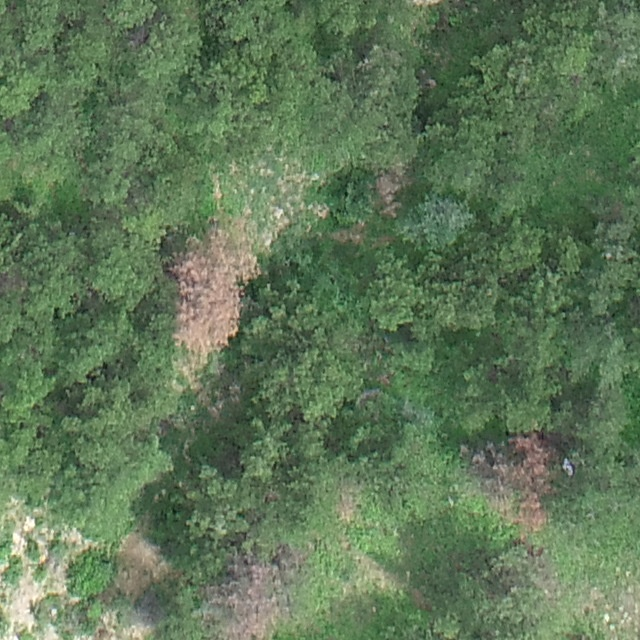unhealthy: (169, 238, 250, 358), (469, 429, 562, 531), (199, 557, 289, 638)
